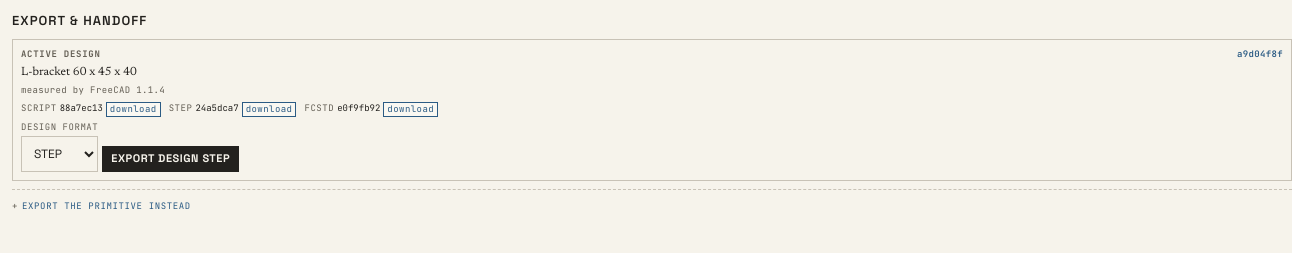
ExportPanel — active design › reports a failed design export
Step 1. Click the button with class "export-panel-design-button" → (171, 159), box [102,146,239,172]
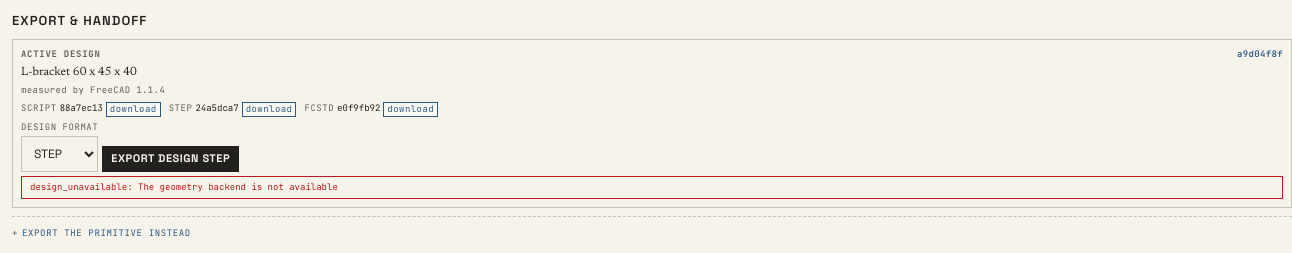
Check: the message with class "export-panel-error" shows "design_unavailable", box [30,181,338,193]
